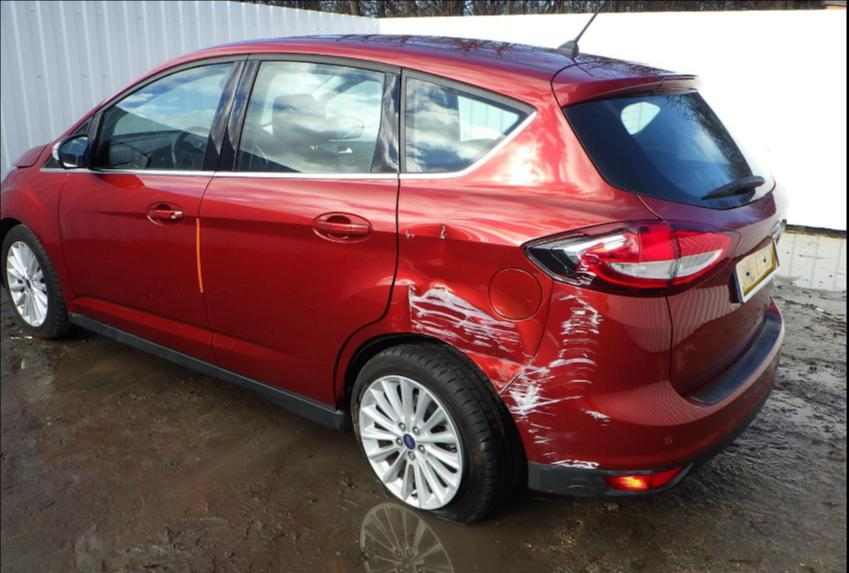Cracked: (523, 218, 740, 298)
Dent: (400, 267, 567, 457), (402, 218, 474, 290)
Scratch: (405, 246, 609, 484), (544, 476, 592, 497), (435, 220, 451, 241), (405, 228, 413, 238)
